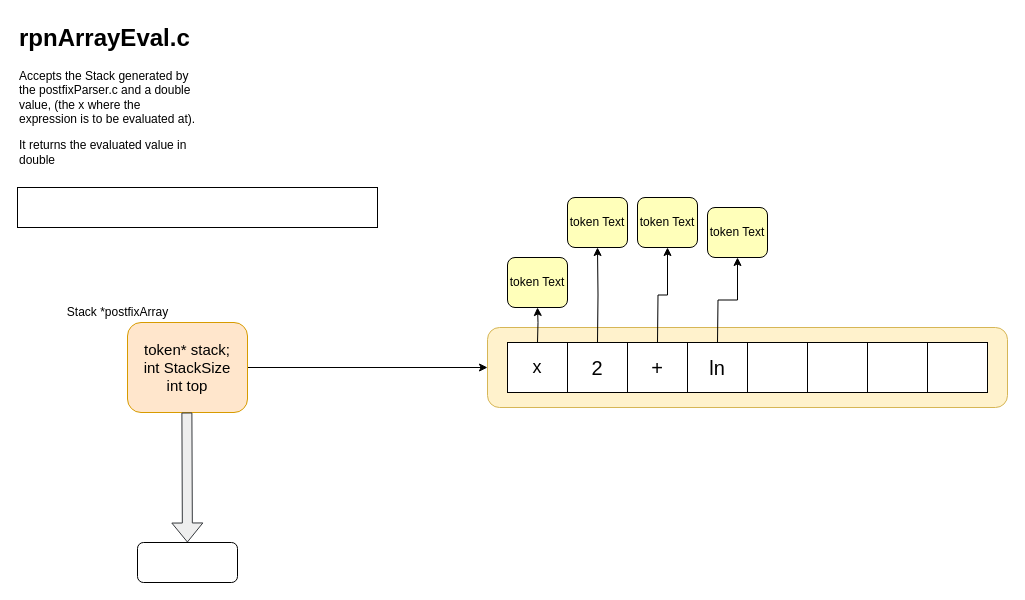
Some shapes in this 1025 by 600 pixel diagram are drawn without their labels. The box of each missing label's shape, as (x1, y1, x2, y2) in pixels:
double eval(Stack *postfixArray, double x0): (16, 186, 378, 228)
double result: (136, 542, 238, 582)
